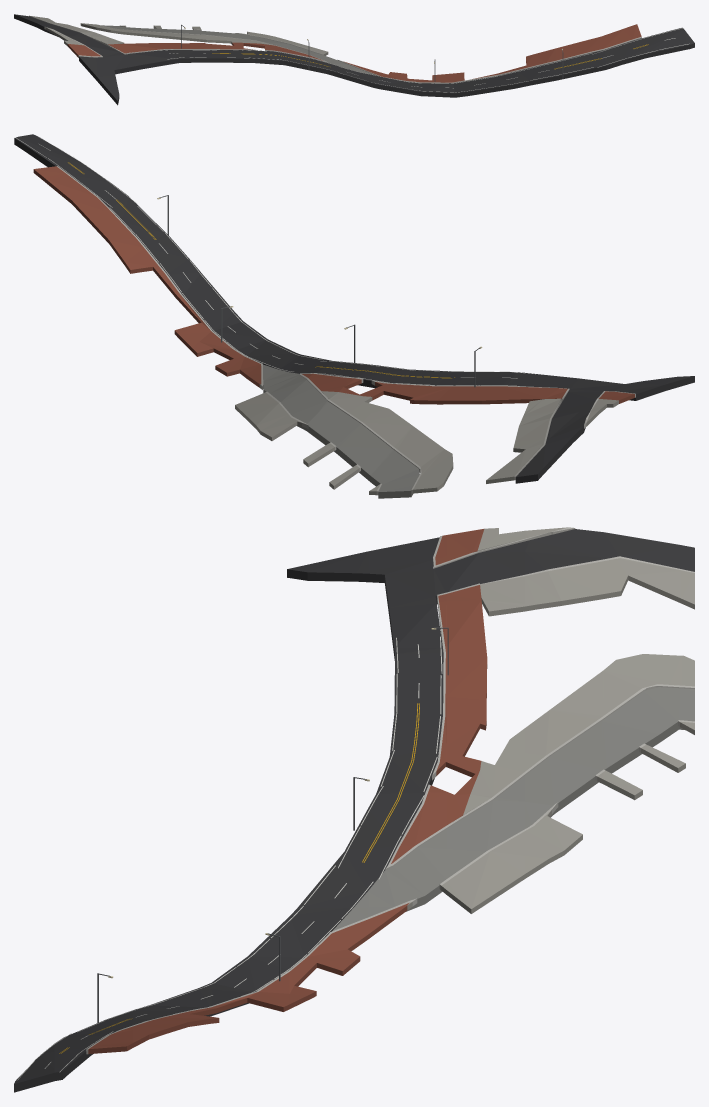
3 renders of one model, top to bottom at view 1: azimuth 30°, elevation 25°; view 2: azimuth 150°, elevation 25°; view 3: azimuth 270°, elevation 25°, orthographic. The views are drawn at different scales.
Size of the model in its own units: 147 by 22.69 by 86.88.
